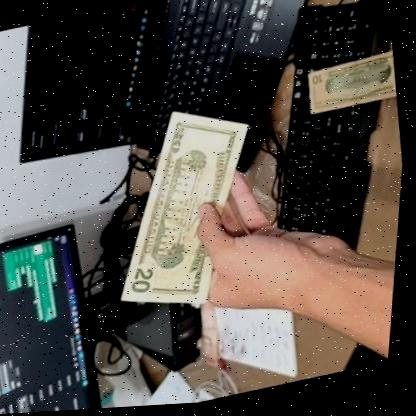ten-back: (303, 53, 401, 121)
twenty-back: (95, 96, 280, 330)
